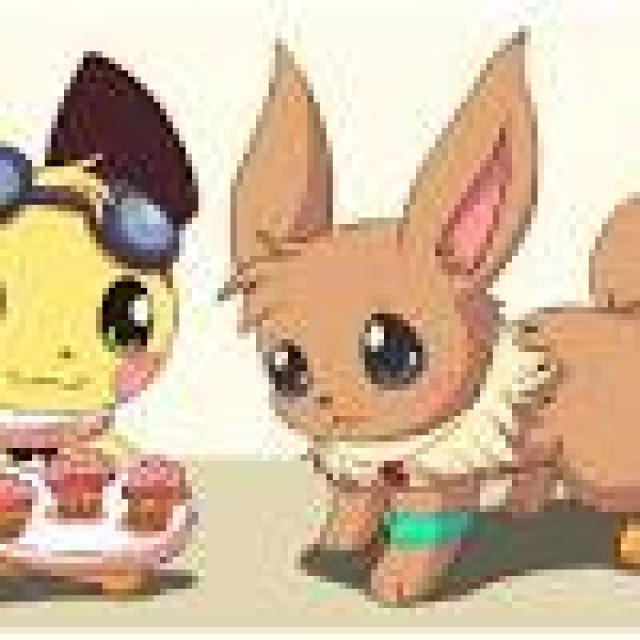pichu: (0, 154, 192, 428)
